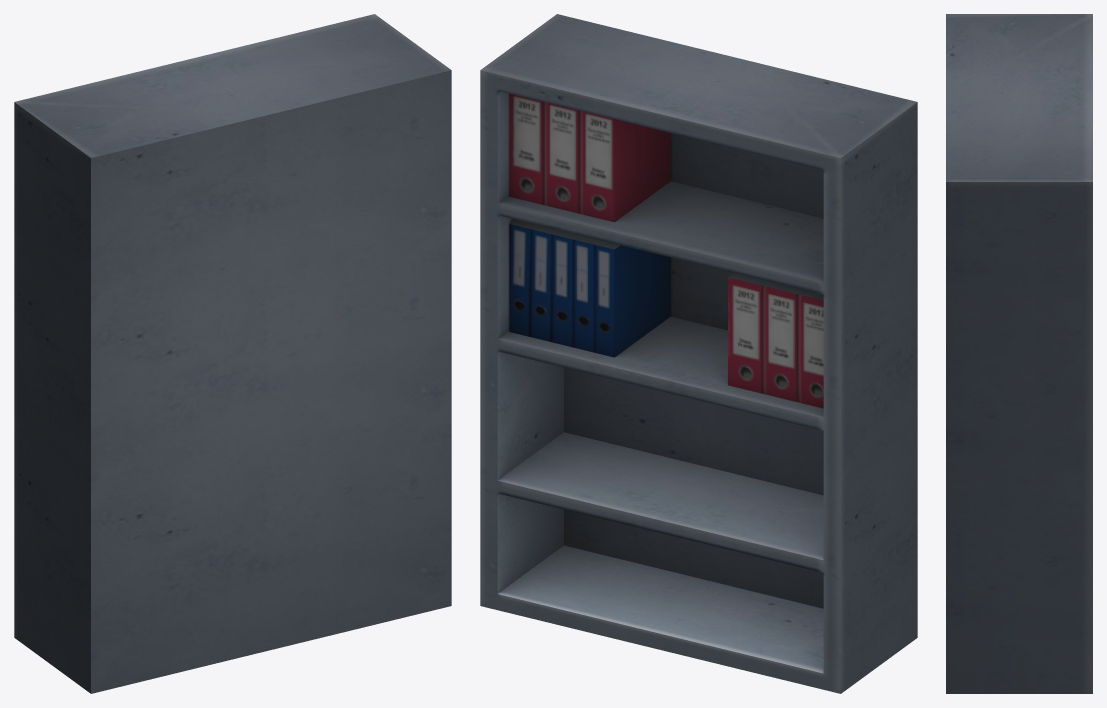
Rendered from kast.obj.
3 views of the same model, side by side, from view 1: azimuth 30°, elevation 25°; view 2: azimuth 150°, elevation 25°; view 3: azimuth 270°, elevation 25° (orthographic). The views are drawn at different scales.
Parts seen in each view (by area): view 1: cube1_cube1_auv; view 2: cube1_cube1_auv; view 3: cube1_cube1_auv.
Boxes of the visible parts, left/top/right/bottom form: cube1_cube1_auv: left=14, top=14, right=451, bottom=693; cube1_cube1_auv: left=480, top=14, right=917, bottom=693; cube1_cube1_auv: left=946, top=14, right=1092, bottom=693.
Bounding box in the file's own units: 1.41 × 2 × 0.52.
1 material, 1 textured.
